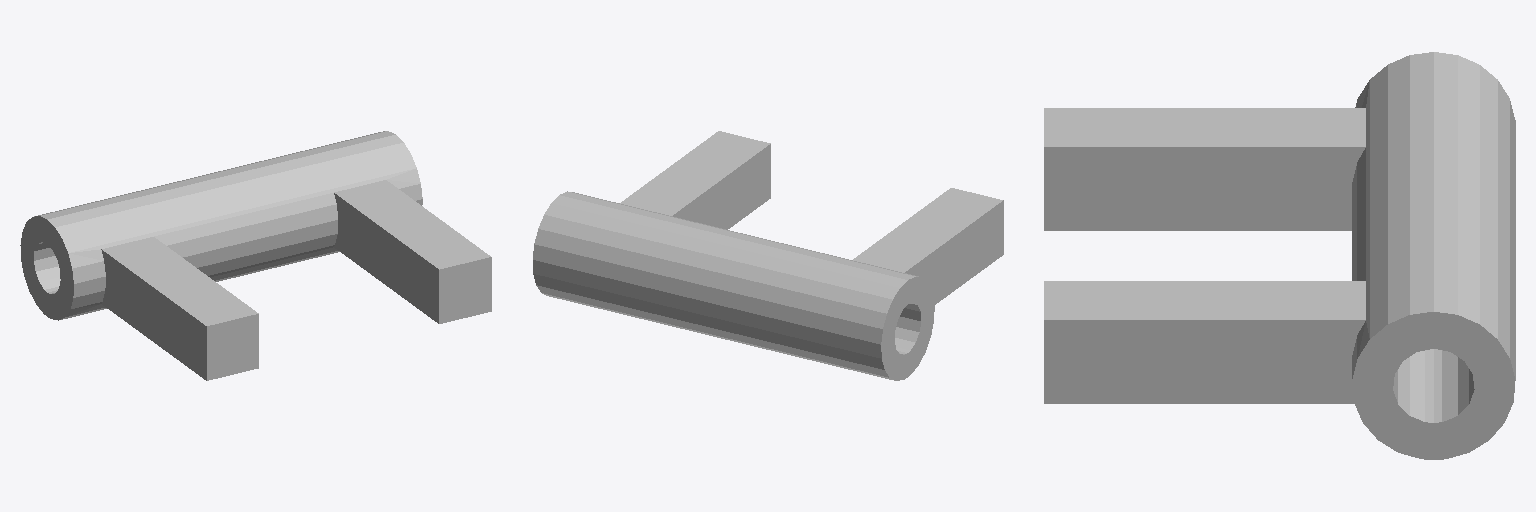
URDF robot description (hole):
<?xml version="1.0"?>
<robot
    xmlns:xacro="http://www.ros.org/wiki/xacro" name="hole" >
  <link
    name="hole_link">
    <inertial>
      <origin
        xyz="1.71235385262953E-17 -1.5225511599763E-17 -0.576299501137256"
        rpy="0 0 0" />
      <mass
        value="11.1367786842339" />
      <inertia
        ixx="1.37473279671273"
        ixy="7.83505476210237E-18"
        ixz="4.77324062947275E-17"
        iyy="1.44357122100688"
        iyz="-1.95807553142281E-17"
        izz="0.161902575245923" />
    </inertial>
    <visual>
      <origin
        xyz="0 0 0"
        rpy="0 0 0" />
      <geometry>
        <mesh
          filename="package://hydrus/urdf/mesh/scene/hole_link.dae" />
      </geometry>
      <material
        name="">
        <color
          rgba="0.8 0.8 0.8 1" />
      </material>
    </visual>
    <collision>
      <origin
        xyz="0 0 0"
        rpy="0 0 0" />
      <geometry>
        <mesh
          filename="package://hydrus/urdf/mesh/scene/hole_link.dae" />
      </geometry>
    </collision>
  </link>

  <gazebo reference="hole_link">
    <static>true</static>
  </gazebo>

</robot>

--- Facts derived from the render (not from the file) ---
The picture shows the robot from 3 angles, left to right: view 1: azimuth 30°, elevation 25°; view 2: azimuth 150°, elevation 25°; view 3: azimuth 270°, elevation 25°; orthographic projection.
Robot: hole — 1 links, 0 joints (none); root link hole_link; default pose: every joint at zero.
Visible links, largest first — view 1: hole_link; view 2: hole_link; view 3: hole_link.
Link boxes in pixels (x1,y1,x2,y2): hole_link: (20, 131, 491, 380); hole_link: (533, 131, 1003, 380); hole_link: (1044, 52, 1515, 459).
Size in the robot's own frame: 0.3 by 0.2299 by 0.08 metres.
1 mesh visuals loaded from 1 distinct referenced files (1 Collada DAE).